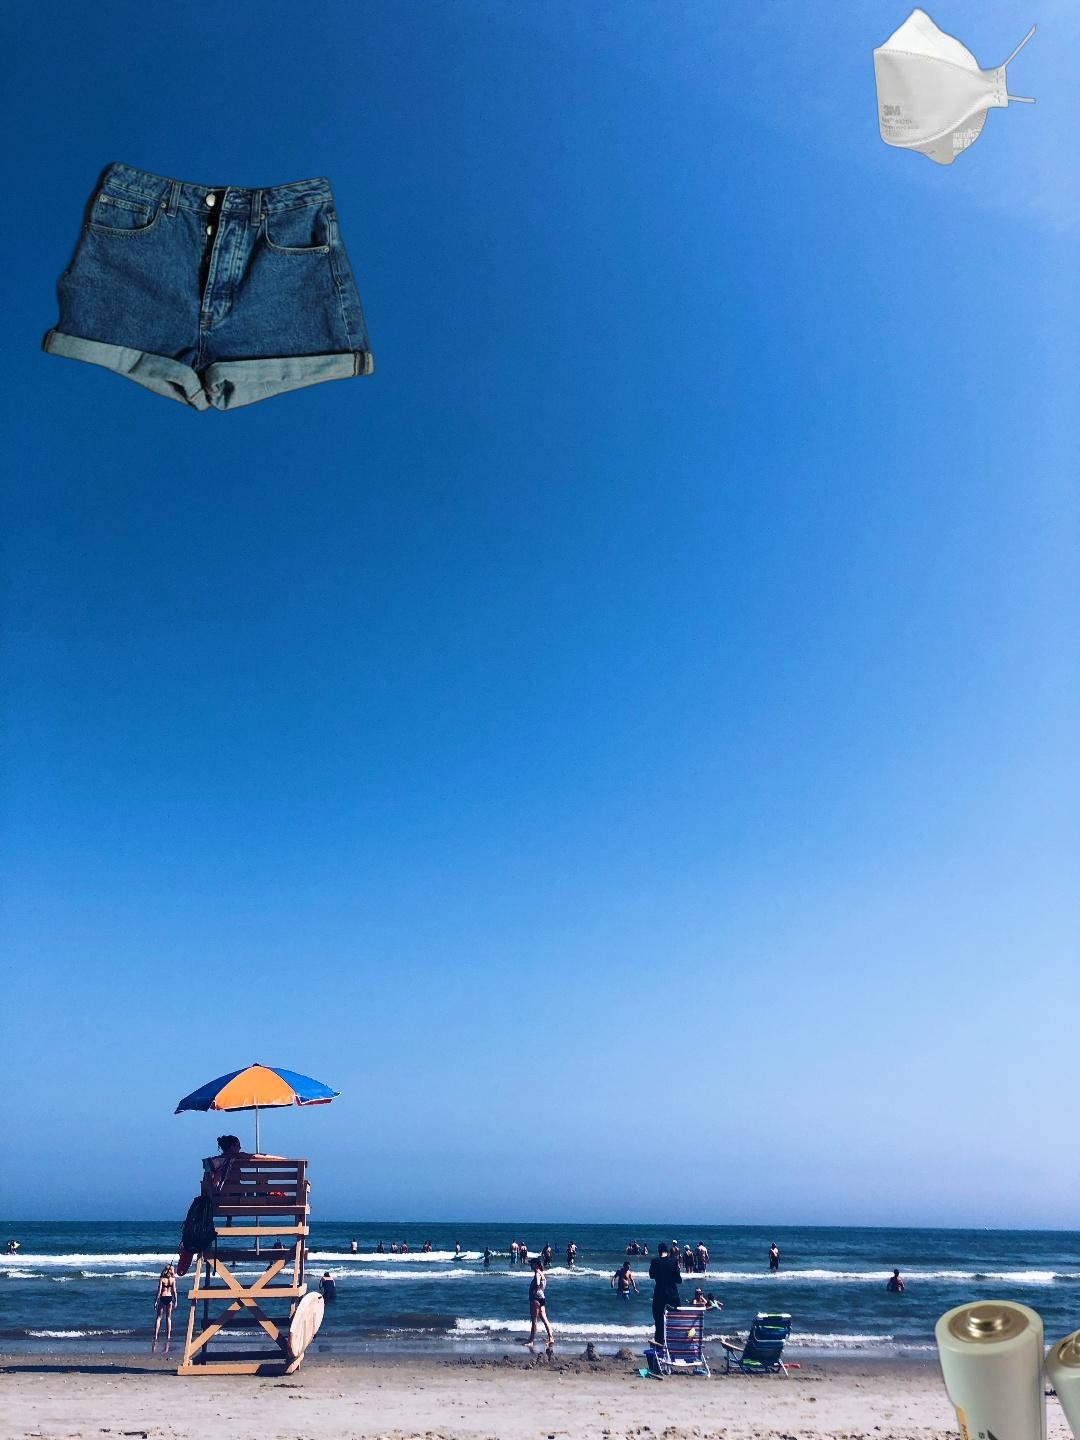battery: (929, 1296, 1080, 1440)
clothes: (37, 158, 379, 415)
trash: (870, 5, 1040, 168)
